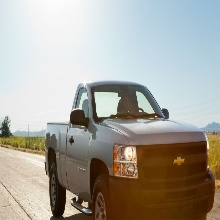no damage: (43, 82, 216, 220)
